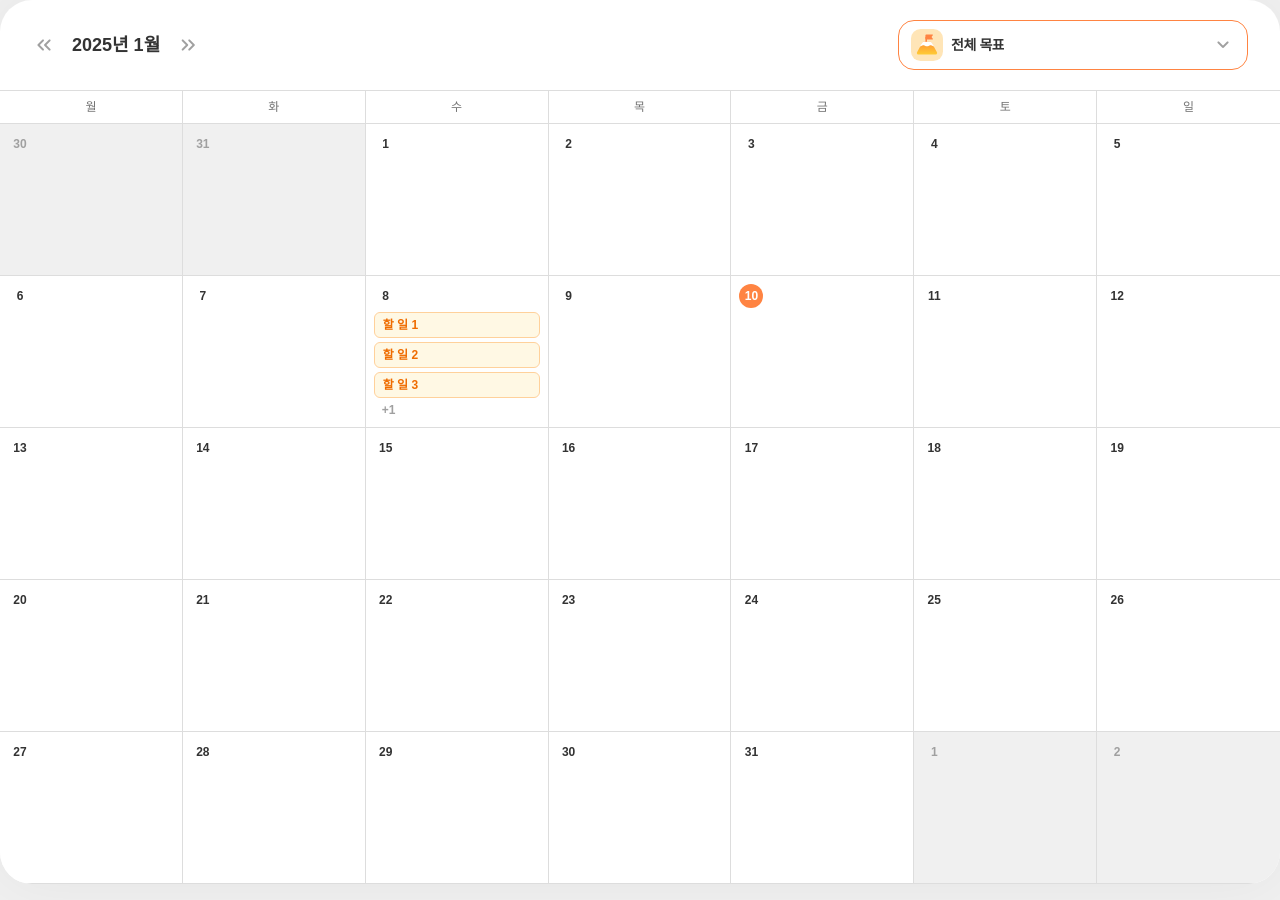
Test: CalendarView › 할 일이 있는 날짜를 누르면 선택되고 그날의 할 일 전체를 모달로 보여준다
What coordinates should you click on to do the following:
click the button named "2025년 1월 8일, 할 일 4개"
I would click on:
 (386, 296)
Its box is top-left (374, 284), bottom-right (398, 308).
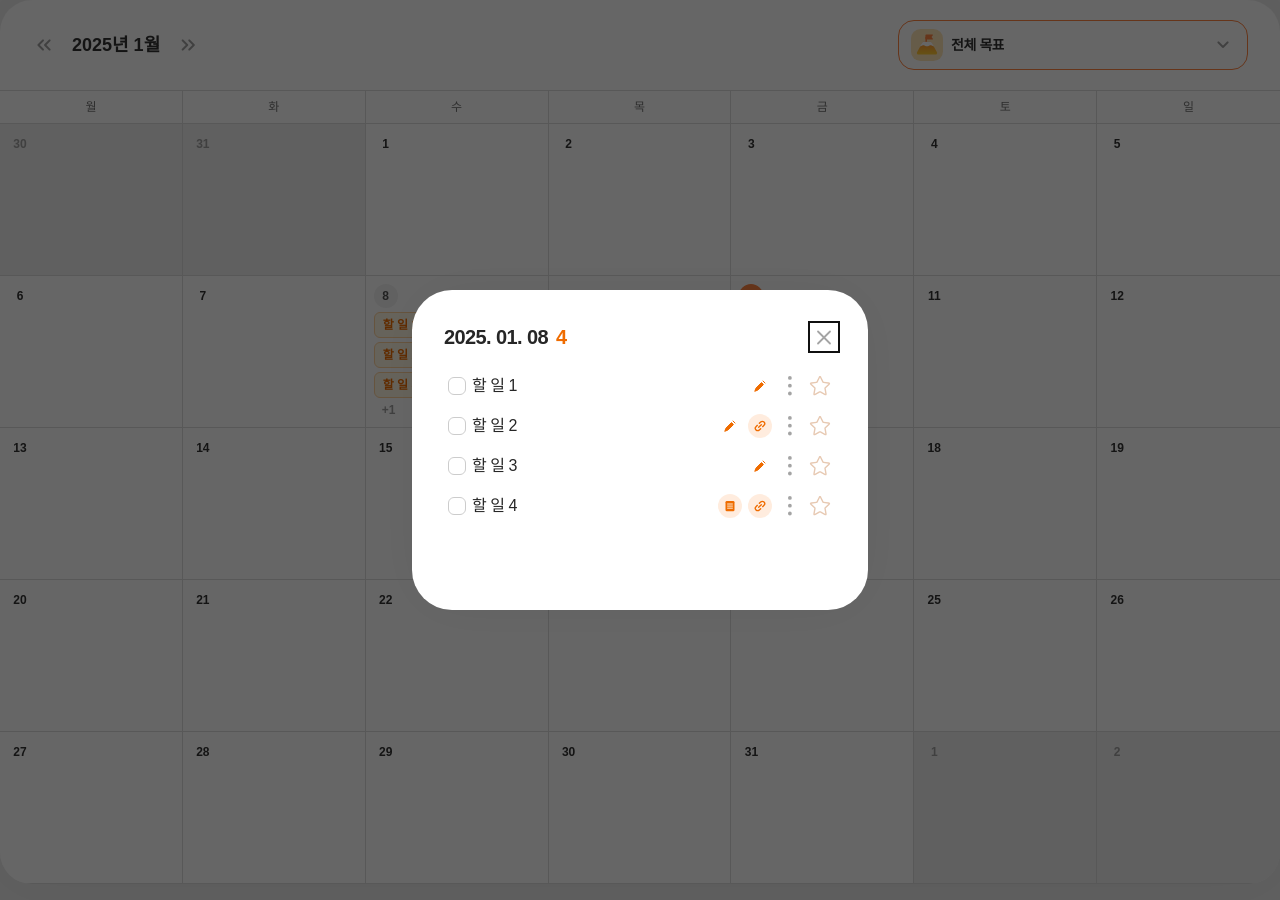
Expected: the heading "2025. 01. 08 4" is shown, top-left (444, 322), bottom-right (566, 352)
What coordinates should you click on to do the following:
click the button "할 일 4"
I would click on:
 (592, 506)
Its box is top-left (472, 494), bottom-right (712, 518).
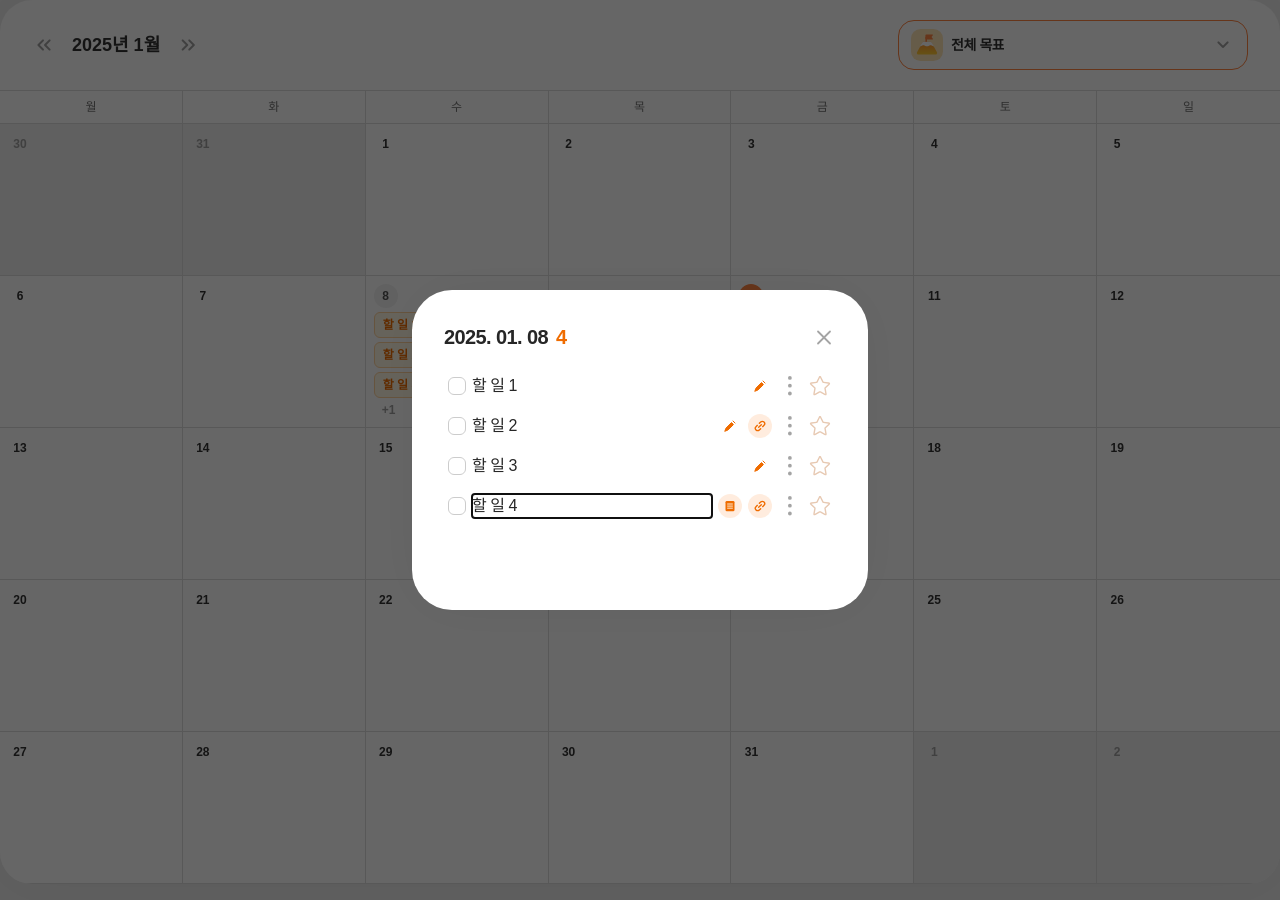
What coordinates should you click on to do the following:
click the button named "닫기"
I would click on:
 (824, 337)
Its box is top-left (812, 325), bottom-right (836, 349).
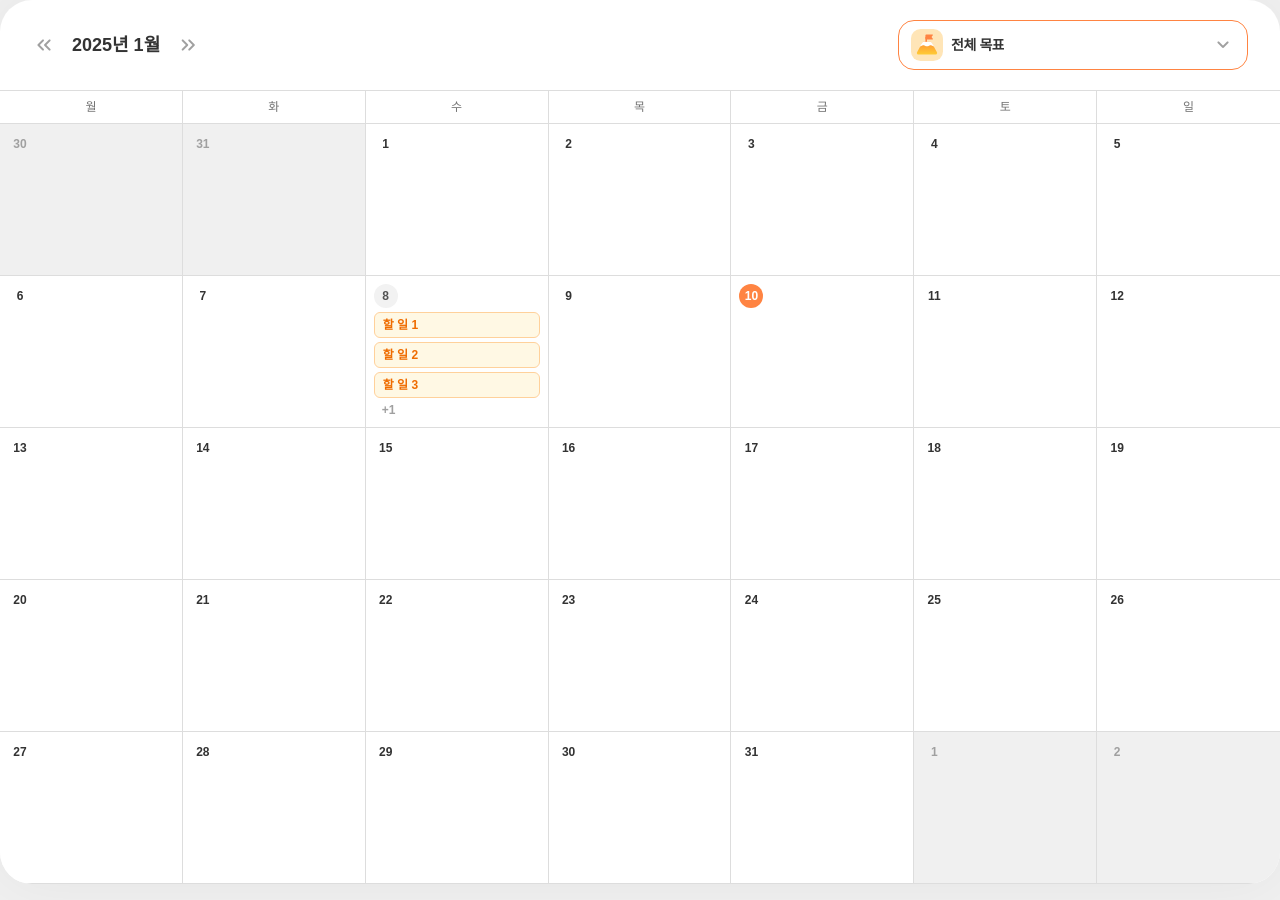
Expected: the dialog is gone
